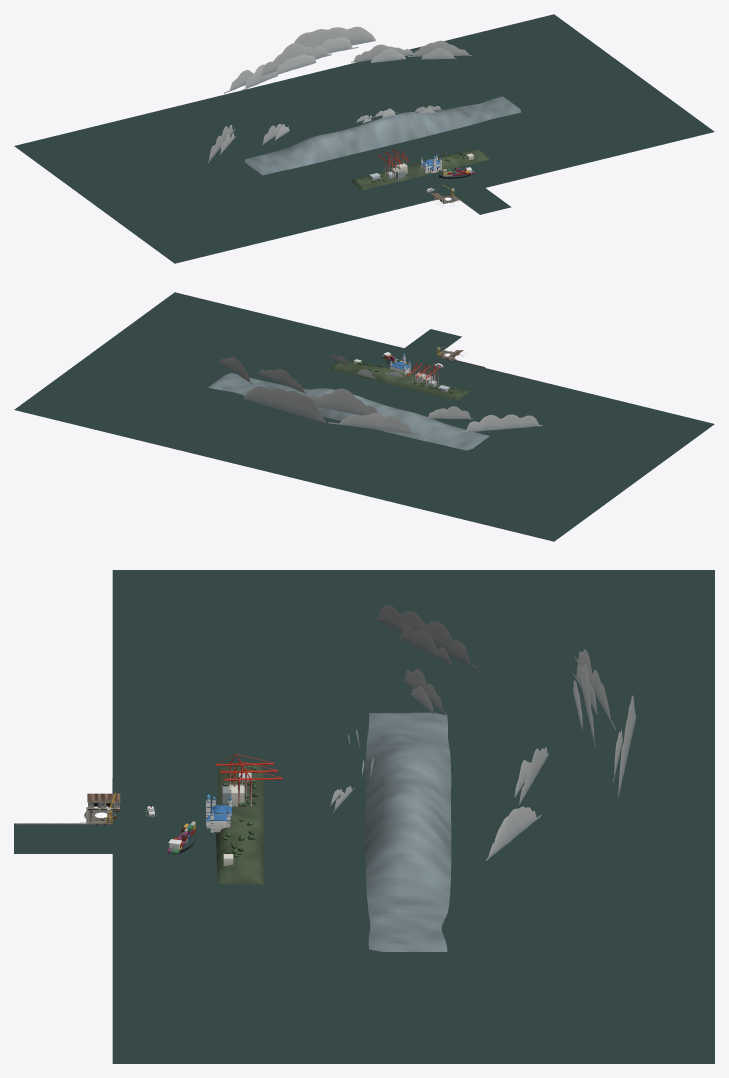
The model's file is arena_johor.glb.
3 renders of one model, top to bottom at view 1: azimuth 30°, elevation 25°; view 2: azimuth 150°, elevation 25°; view 3: azimuth 270°, elevation 25°, orthographic. The views are drawn at different scales.
Parts seen in each view (by area): view 1: EnvFar_MatWater_sea, EnvFar_MatLeaf_canopy, EnvFar_MatSky_cloud, EnvBattle_MatWater_sea, EnvFar_MatPlaster_white, EnvFar_MatMetal_steel; view 2: EnvFar_MatWater_sea, EnvFar_MatSky_cloud, EnvFar_MatLeaf_canopy, EnvBattle_MatWater_sea, EnvFar_MatPlaster_white, EnvFar_MatMetal_steel; view 3: EnvFar_MatWater_sea, EnvFar_MatLeaf_canopy, EnvFar_MatSky_cloud, EnvBattle_MatWater_sea, EnvFar_MatMetal_steel, EnvFar_MatPlaster_white.
Boxes of the visible parts, <box> form: EnvFar_MatWater_sea: <box>14,14,714,263</box>; EnvFar_MatLeaf_canopy: <box>244,96,520,190</box>; EnvFar_MatSky_cloud: <box>207,26,471,163</box>; EnvBattle_MatWater_sea: <box>455,188,511,214</box>; EnvFar_MatPlaster_white: <box>369,153,473,192</box>; EnvFar_MatMetal_steel: <box>377,149,474,192</box>; EnvFar_MatWater_sea: <box>14,292,714,541</box>; EnvFar_MatSky_cloud: <box>218,354,542,434</box>; EnvFar_MatLeaf_canopy: <box>208,361,489,450</box>; EnvBattle_MatWater_sea: <box>405,329,461,355</box>; EnvFar_MatPlaster_white: <box>353,352,449,392</box>; EnvFar_MatMetal_steel: <box>381,355,444,386</box>; EnvFar_MatWater_sea: <box>112,570,714,1063</box>; EnvFar_MatLeaf_canopy: <box>216,712,451,951</box>; EnvFar_MatSky_cloud: <box>330,605,635,860</box>; EnvBattle_MatWater_sea: <box>14,825,112,853</box>; EnvFar_MatMetal_steel: <box>145,753,282,855</box>; EnvFar_MatPlaster_white: <box>147,772,251,866</box>.
Bounding box in the file's own units: 800 × 97.47 × 480.
